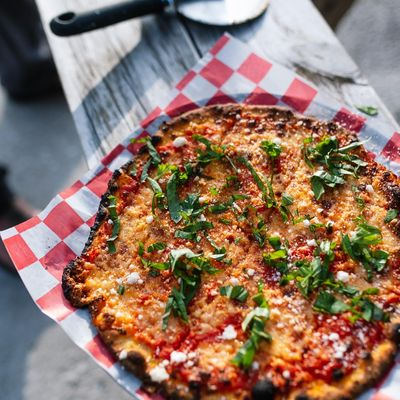curry: (20, 2, 400, 369)
sandwich: (59, 100, 400, 399)
